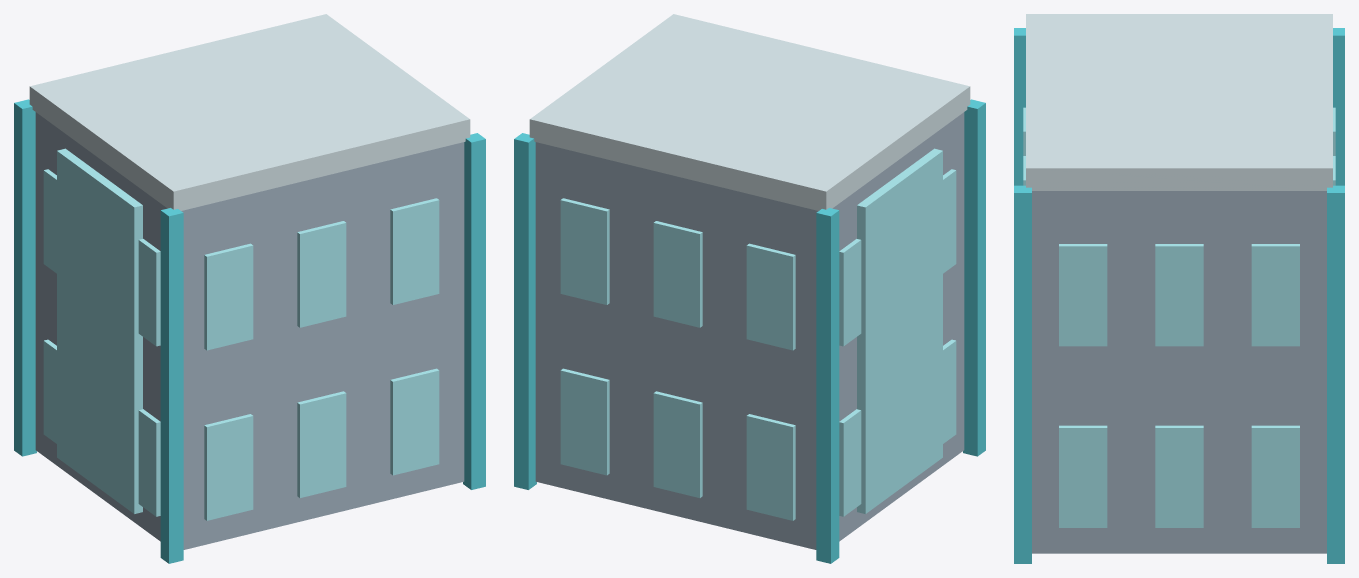
File: shop_a.glb
3 views of the same model, side by side, from view 1: azimuth 30°, elevation 25°; view 2: azimuth 150°, elevation 25°; view 3: azimuth 270°, elevation 25° (orthographic). The views are drawn at different scales.
Bounding box in the file's own units: 5.45 × 6.01 × 4.62.
